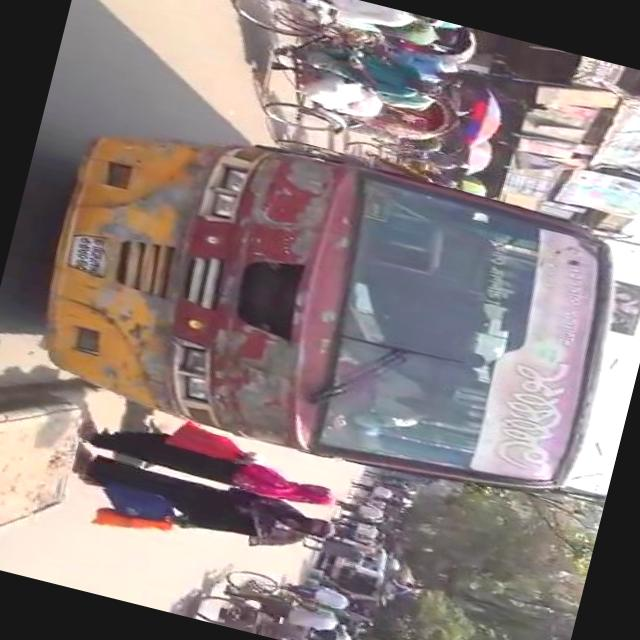bus: (27, 103, 640, 526)
motorcycle: (200, 0, 482, 171), (182, 556, 359, 640), (263, 128, 459, 192), (371, 8, 490, 78)
truck: (305, 530, 400, 612)
